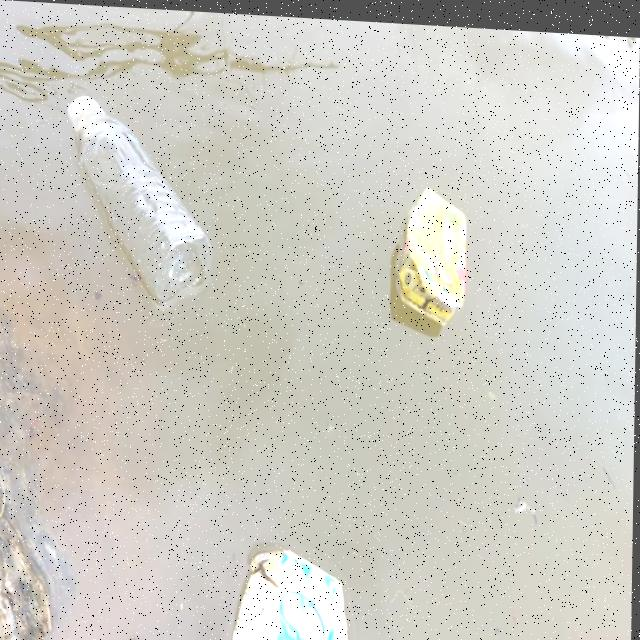paper: (383, 180, 483, 327), (227, 539, 370, 640)
waterbottle: (54, 88, 241, 308)
